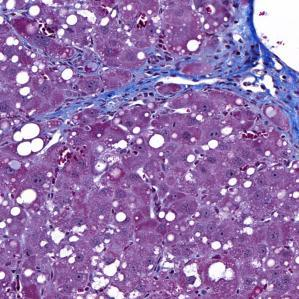fibrosis: (149, 36, 276, 107)
